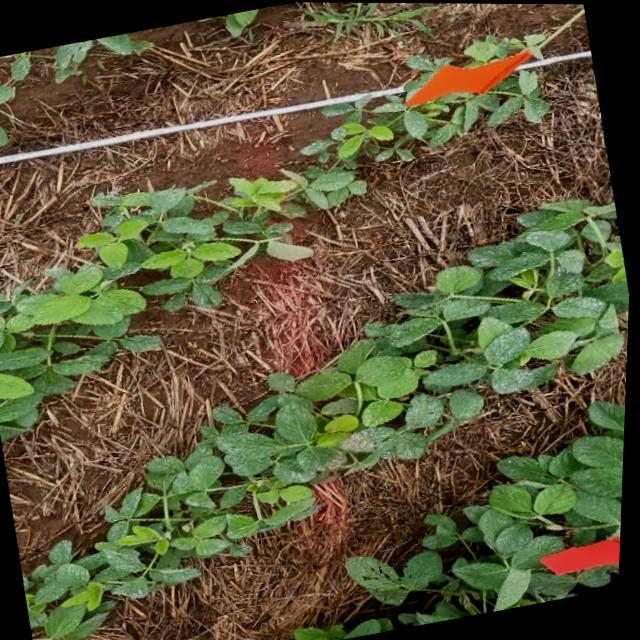grassy_weed: (306, 2, 430, 37)
soy_plant: (51, 200, 632, 609), (0, 70, 549, 434), (351, 399, 628, 626), (27, 540, 202, 640), (2, 32, 152, 82), (298, 616, 401, 640), (465, 34, 498, 61), (225, 8, 258, 35)
